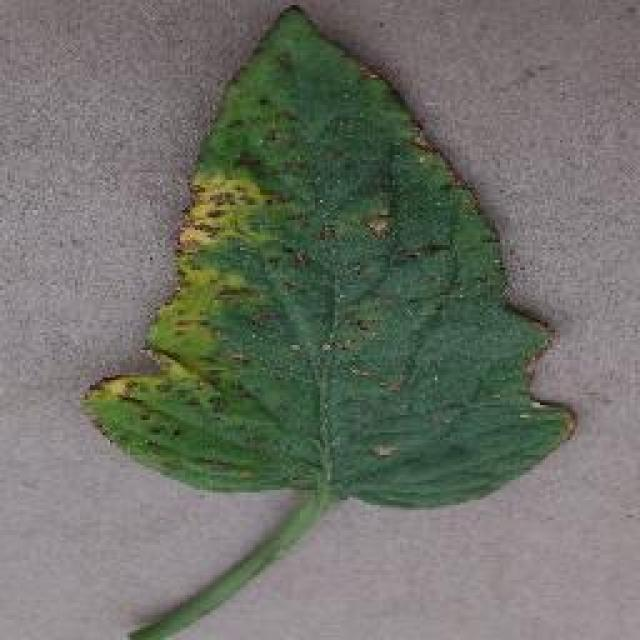Tomato bacterial spot leaf: (70, 0, 600, 525)
